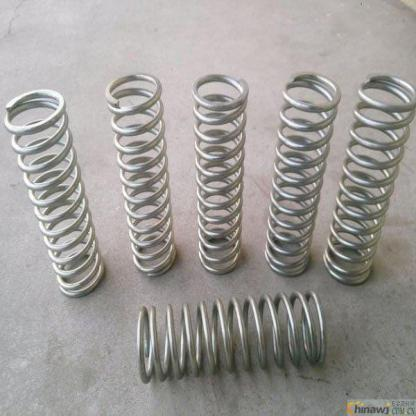FOD: (3, 86, 109, 301), (320, 71, 416, 293), (132, 286, 328, 384), (262, 67, 342, 284), (106, 70, 180, 279), (188, 70, 250, 276)
